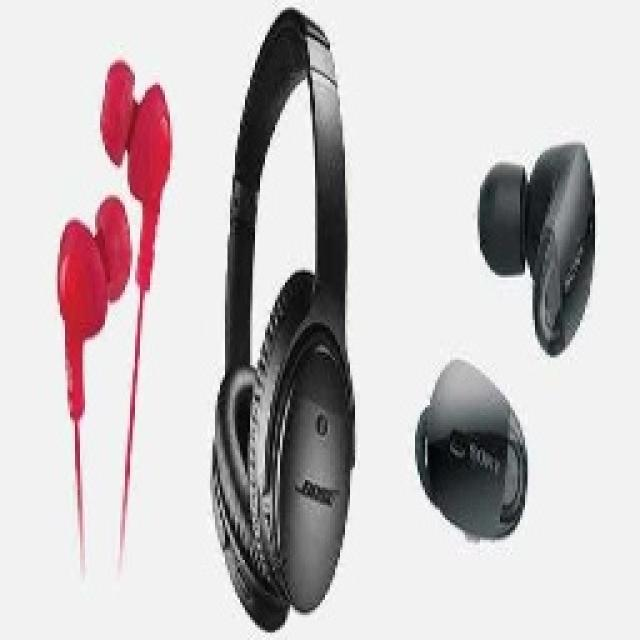headphones: (207, 5, 355, 630)
